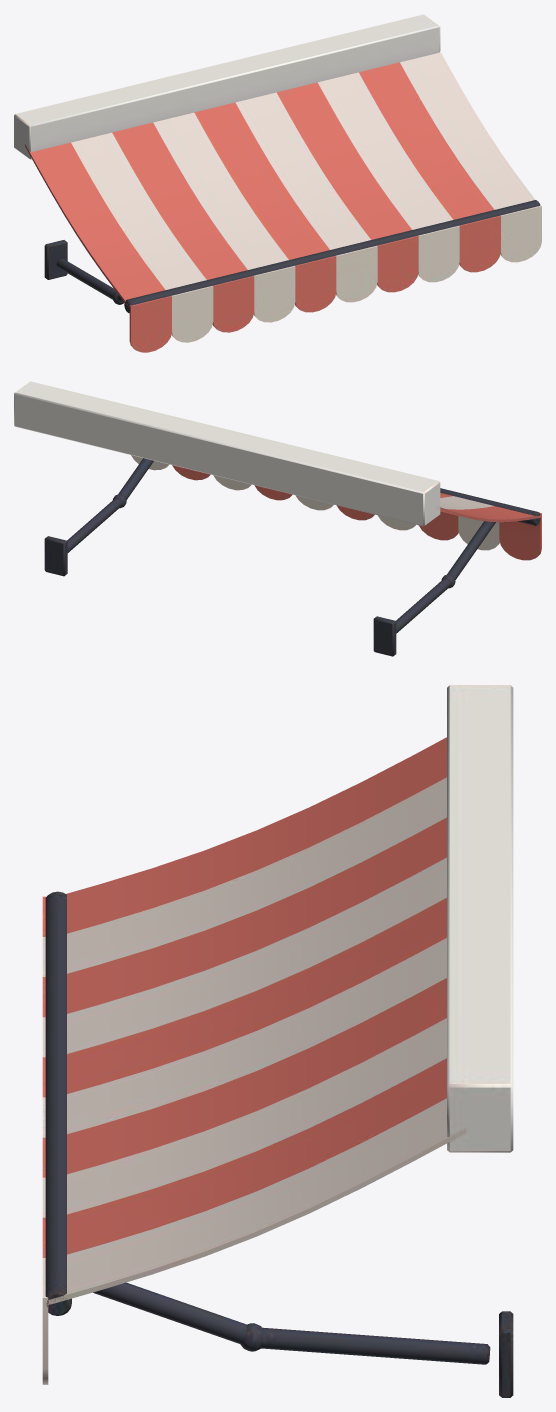
File: awning.glb
3 views of the same model, one above another, from view 1: azimuth 30°, elevation 25°; view 2: azimuth 150°, elevation 25°; view 3: azimuth 270°, elevation 25° (orthographic). The views are drawn at different scales.
Visible parts, largest first — view 1: awning_body; view 2: awning_body; view 3: awning_body.
Boxes of the visible parts, left/top/right/bottom form: awning_body: left=14, top=14, right=541, bottom=352; awning_body: left=14, top=381, right=541, bottom=656; awning_body: left=42, top=685, right=513, bottom=1397.
Bounding box in the file's own units: 2 × 0.8 × 0.992.
1 material, 1 textured.
